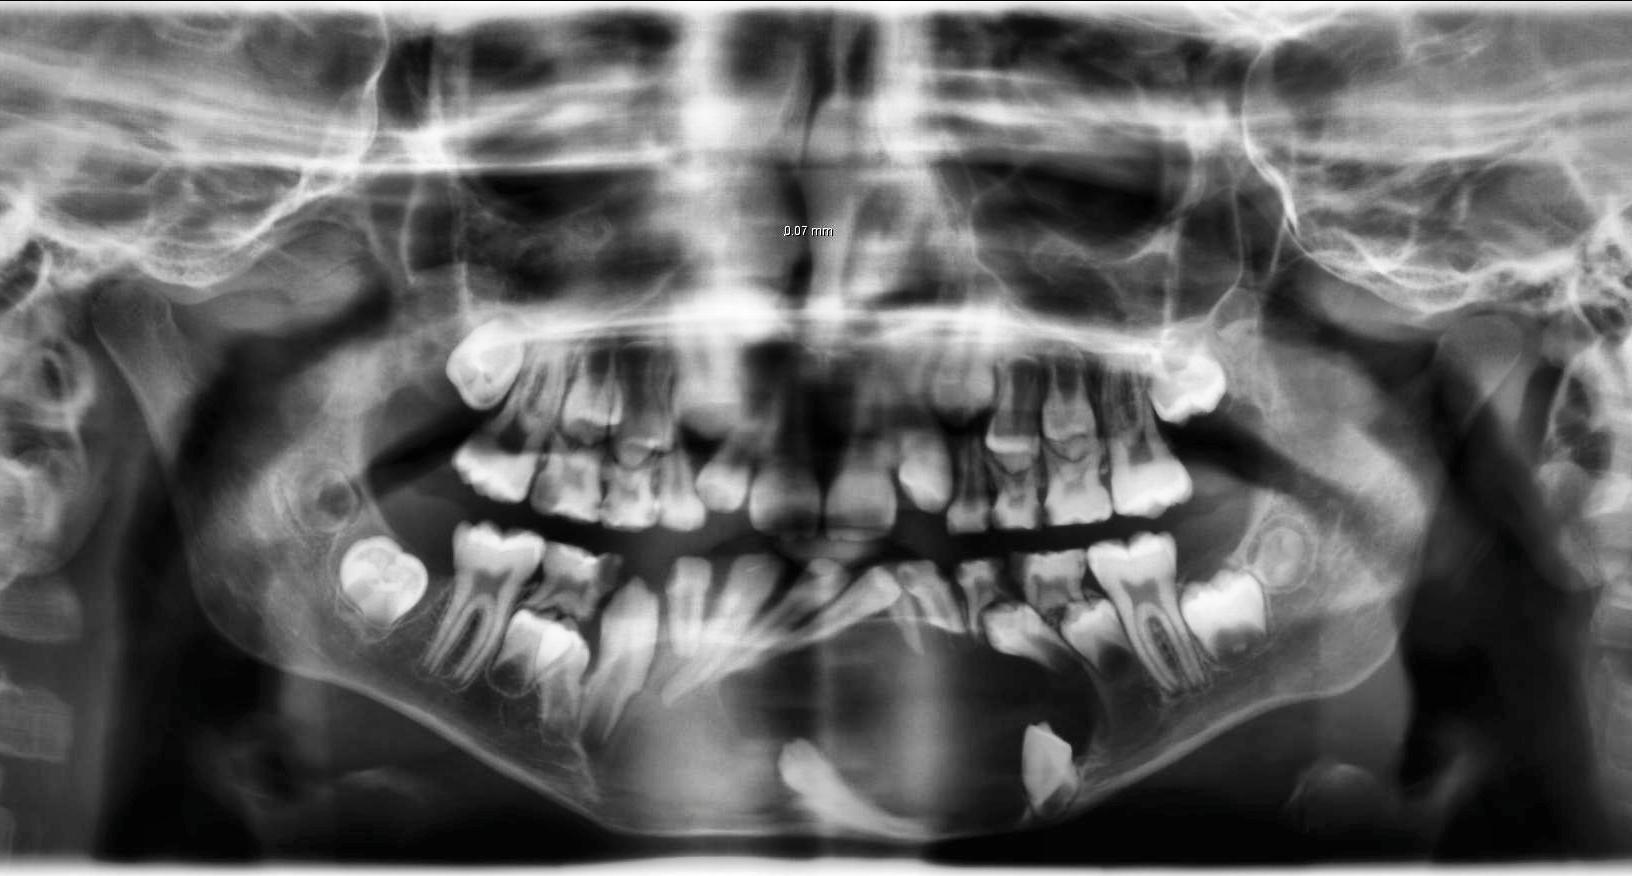keratokist: (576, 618, 1112, 839)
